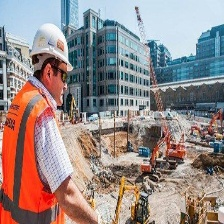helmet: (28, 21, 74, 74)
person: (5, 17, 88, 216)
vest: (4, 84, 69, 224)
